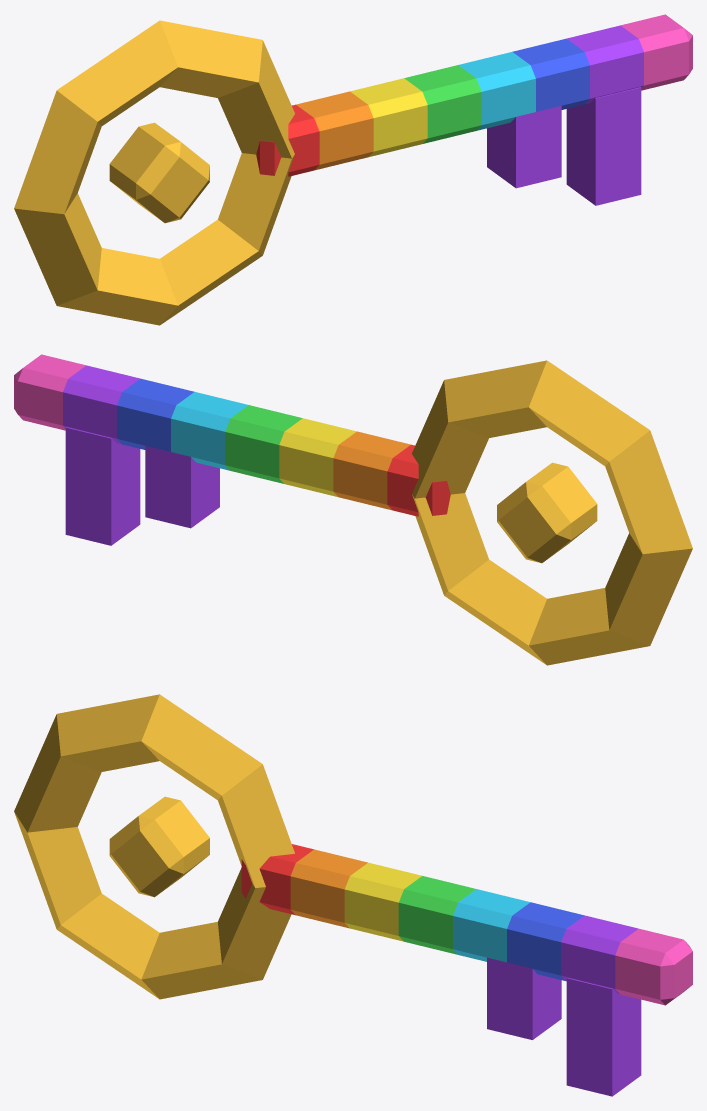
Rendered from RainbowKey.fbx.
The picture shows the model from 3 angles, top to bottom: view 1: azimuth 30°, elevation 25°; view 2: azimuth 150°, elevation 25°; view 3: azimuth 330°, elevation 25°; orthographic projection.
Parts seen in each view (by area): view 1: RainbowKey; view 2: RainbowKey; view 3: RainbowKey.
Boxes of the visible parts, x1,y1,x2,y2 form: RainbowKey: (14,14,692,325); RainbowKey: (14,354,692,665); RainbowKey: (14,694,692,1096).
Bounding box in the file's own units: 2.94 × 1.28 × 0.3.
1 material, 1 textured.
